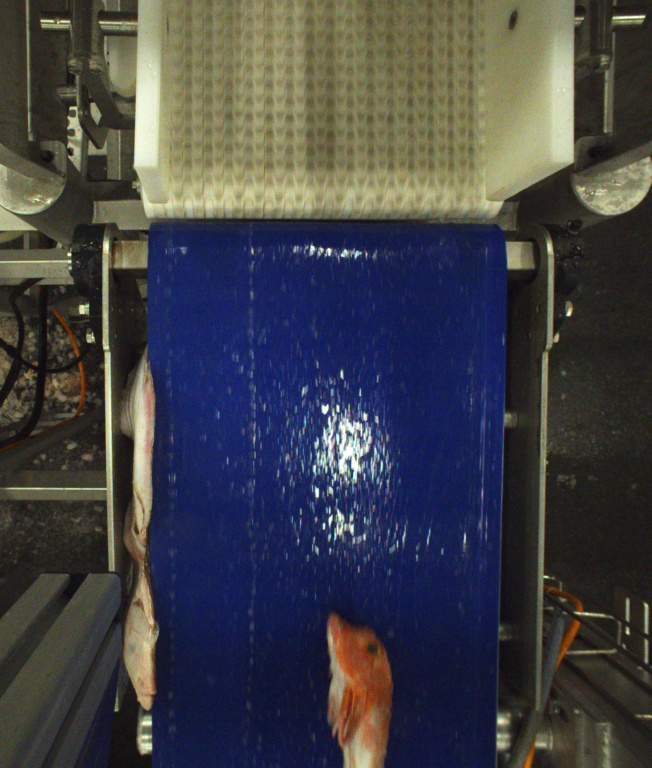GUU: (326, 612, 395, 768)
